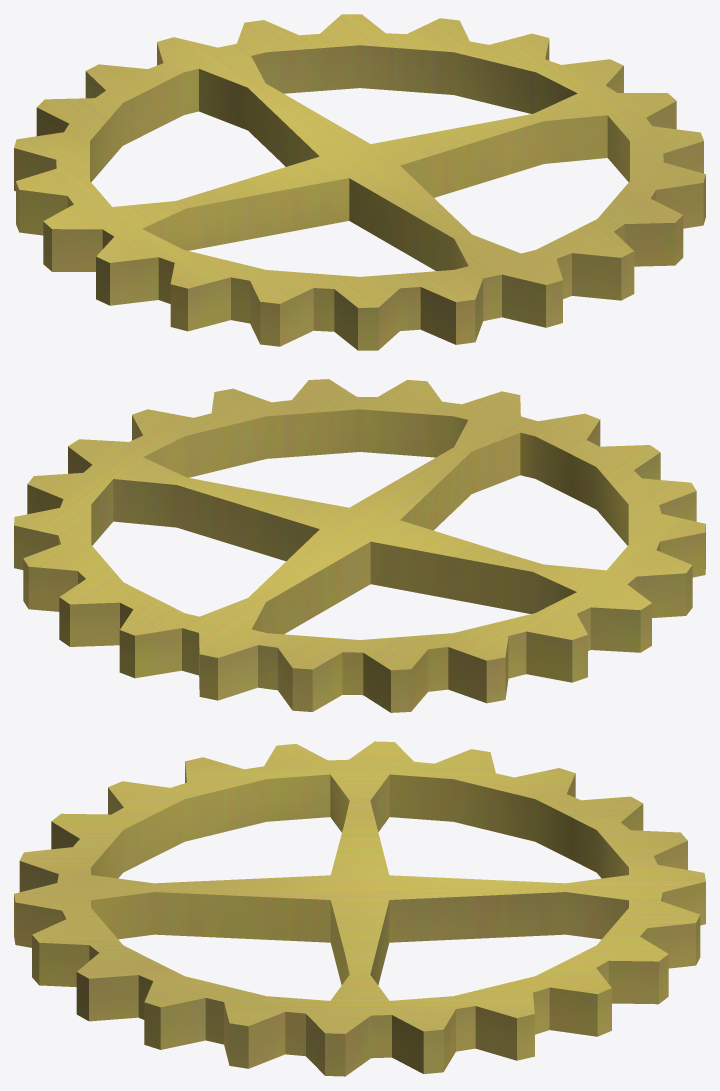
Rendered from Cog4Spoke022.fbx.
3 views of the same model, one above another, from view 1: azimuth 30°, elevation 25°; view 2: azimuth 150°, elevation 25°; view 3: azimuth 270°, elevation 25° (orthographic).
Parts seen in each view (by area): view 1: Cog4Spoke022; view 2: Cog4Spoke022; view 3: Cog4Spoke022.
Part boxes in pixels (x1=…): Cog4Spoke022: x1=14, y1=14, x2=705, y2=350; Cog4Spoke022: x1=14, y1=379, x2=705, y2=712; Cog4Spoke022: x1=14, y1=741, x2=705, y2=1076.
Size of the model in its own units: 215 by 14.59 by 215.
